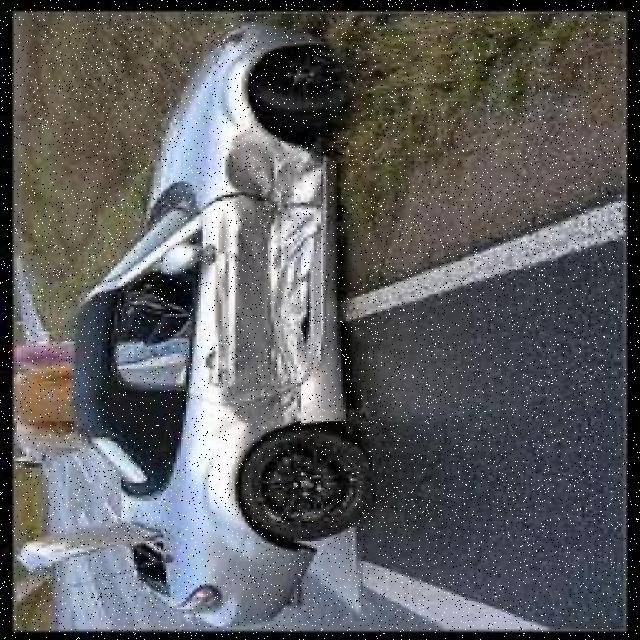damage: (213, 119, 331, 425)
